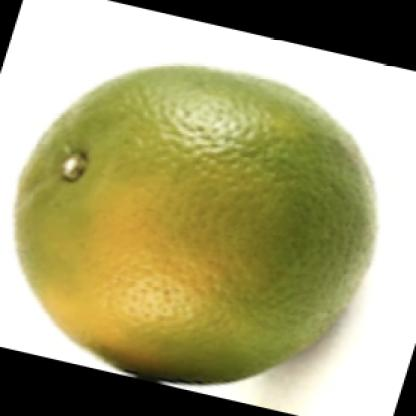fresh: (17, 65, 372, 387)
